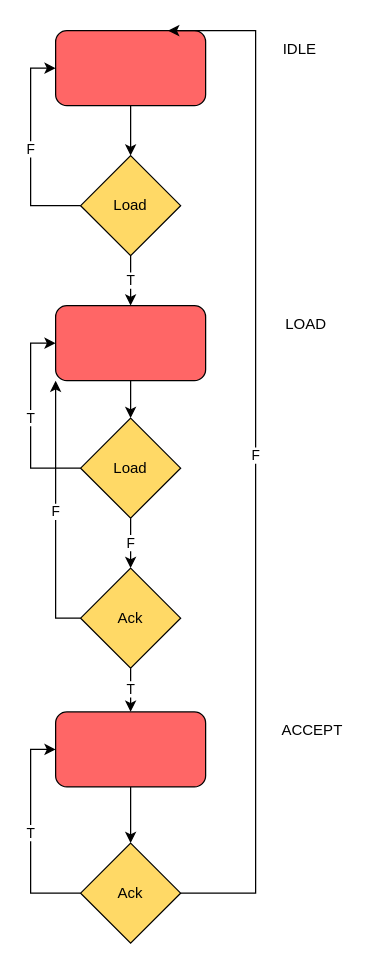
This 378x965 diagram has some shape labels left out. The shapes that lost their labels are listed below. From the top down, each one's box as (x1, y1, x2, y2) in pixels, then its label:
(54, 304, 206, 381): Wreg
(54, 711, 206, 787): OBfree Dval
